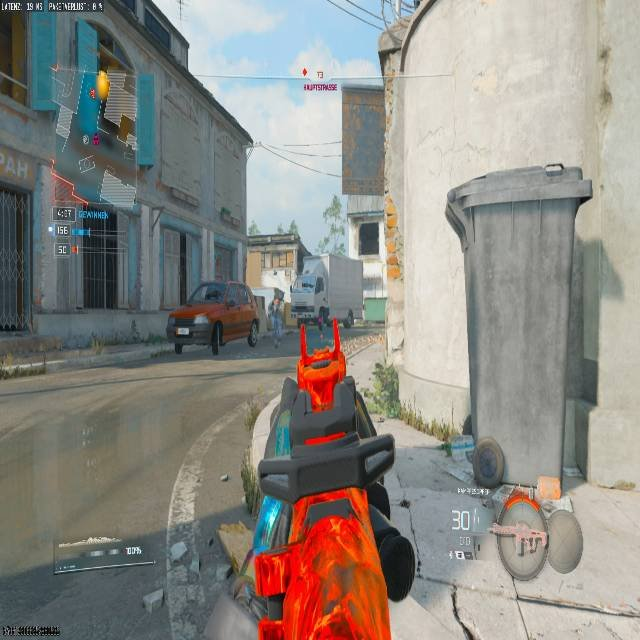player: (265, 283, 289, 343), (345, 309, 354, 327)
